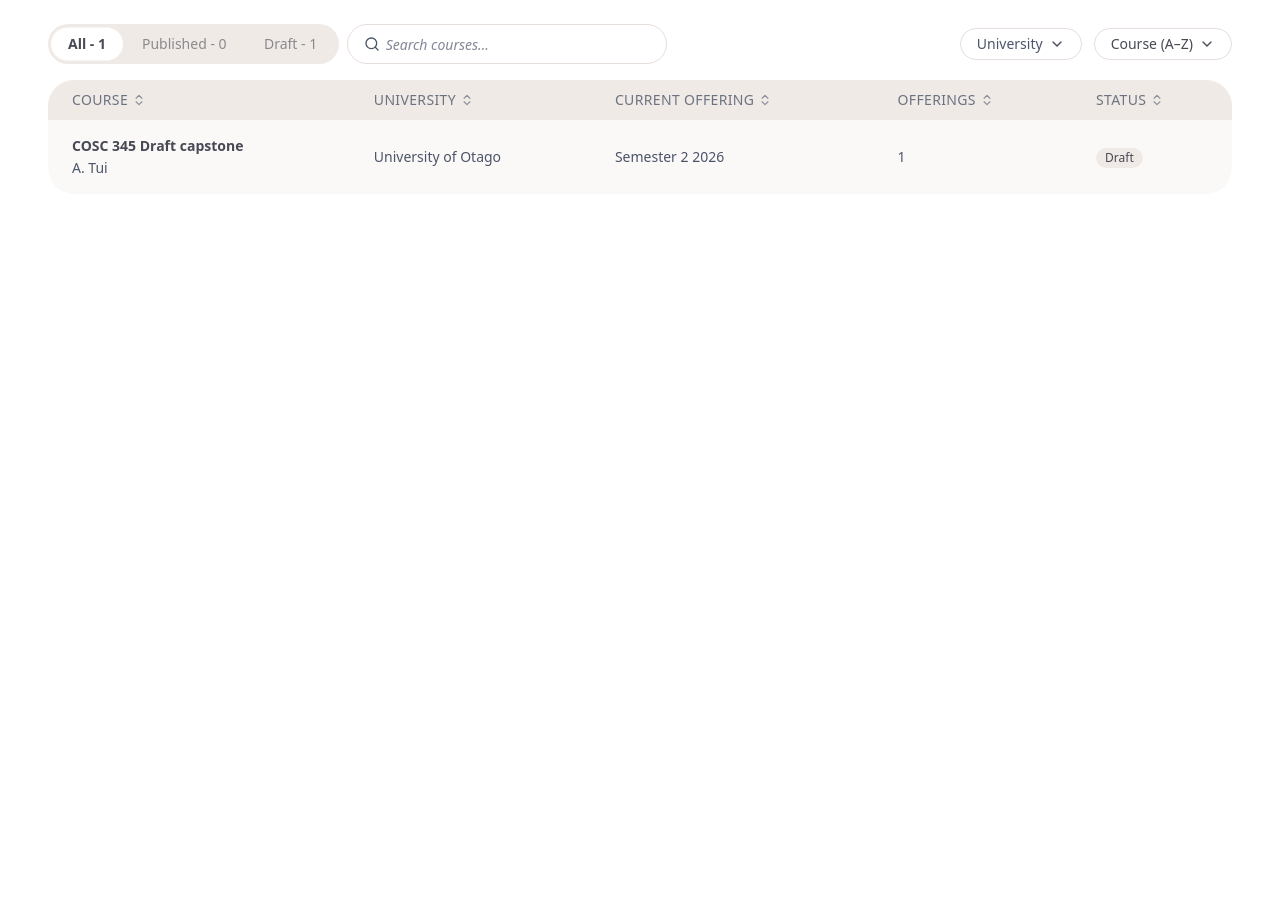
Test: CoursesListClient drafts › keeps the dialog open with the error when deleting fails
Step 1. Click the button named "COSC 345 Draft capstoneA. Tui" → (199, 157), box [72, 136, 326, 178]
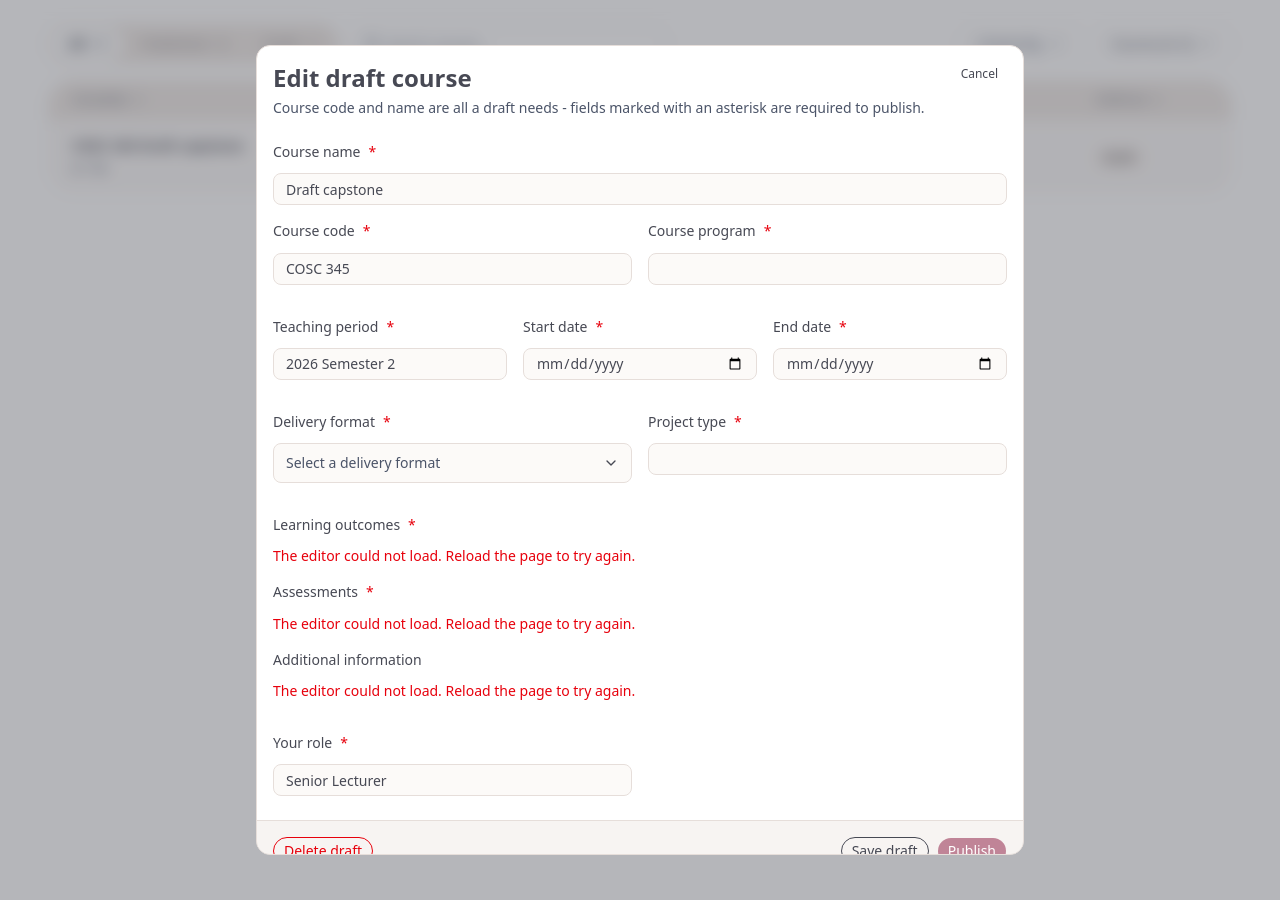
Step 2. Click the button "Delete draft" → (323, 851), box [273, 837, 373, 865]
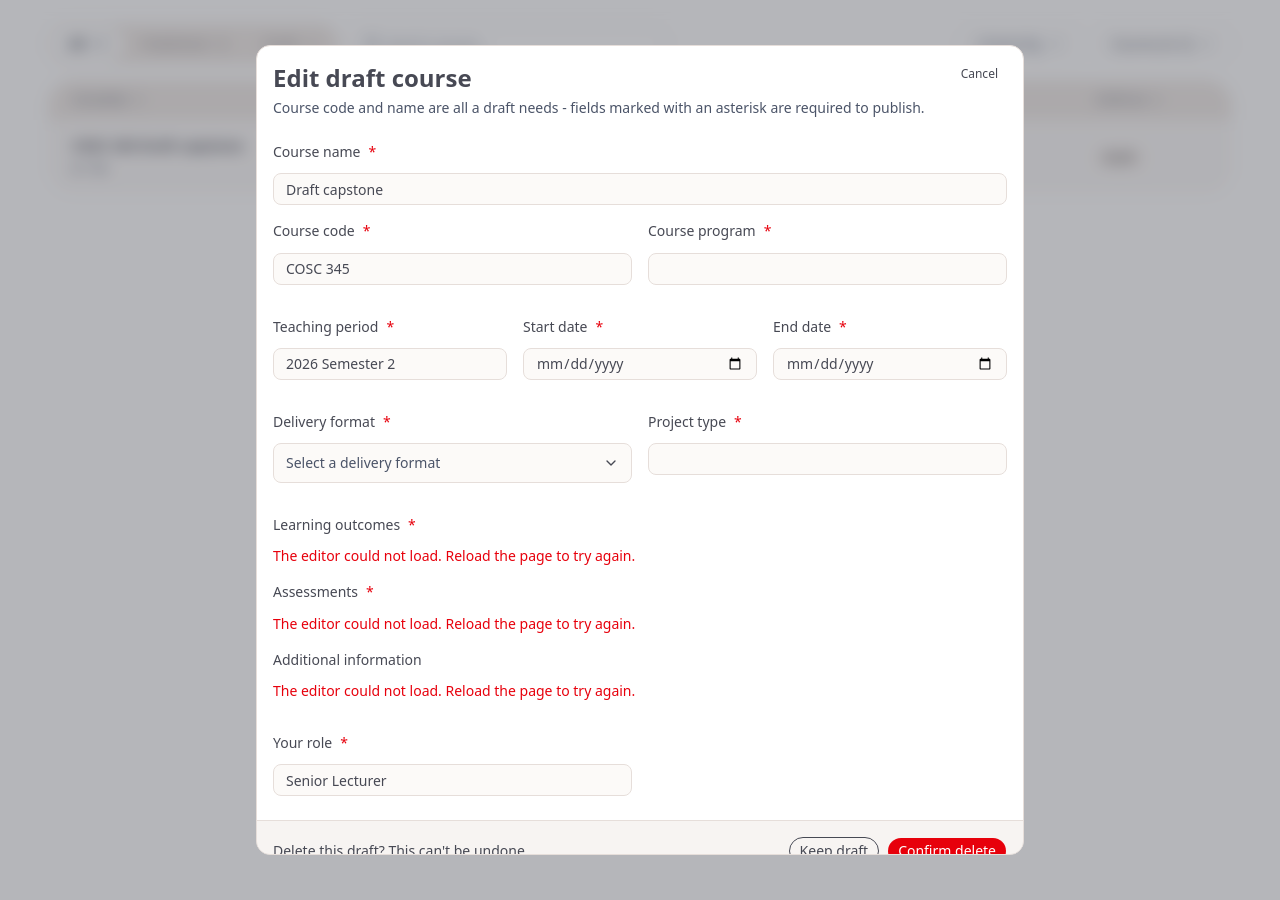
Step 3. Click the button "Confirm delete" → (947, 851), box [887, 837, 1007, 865]
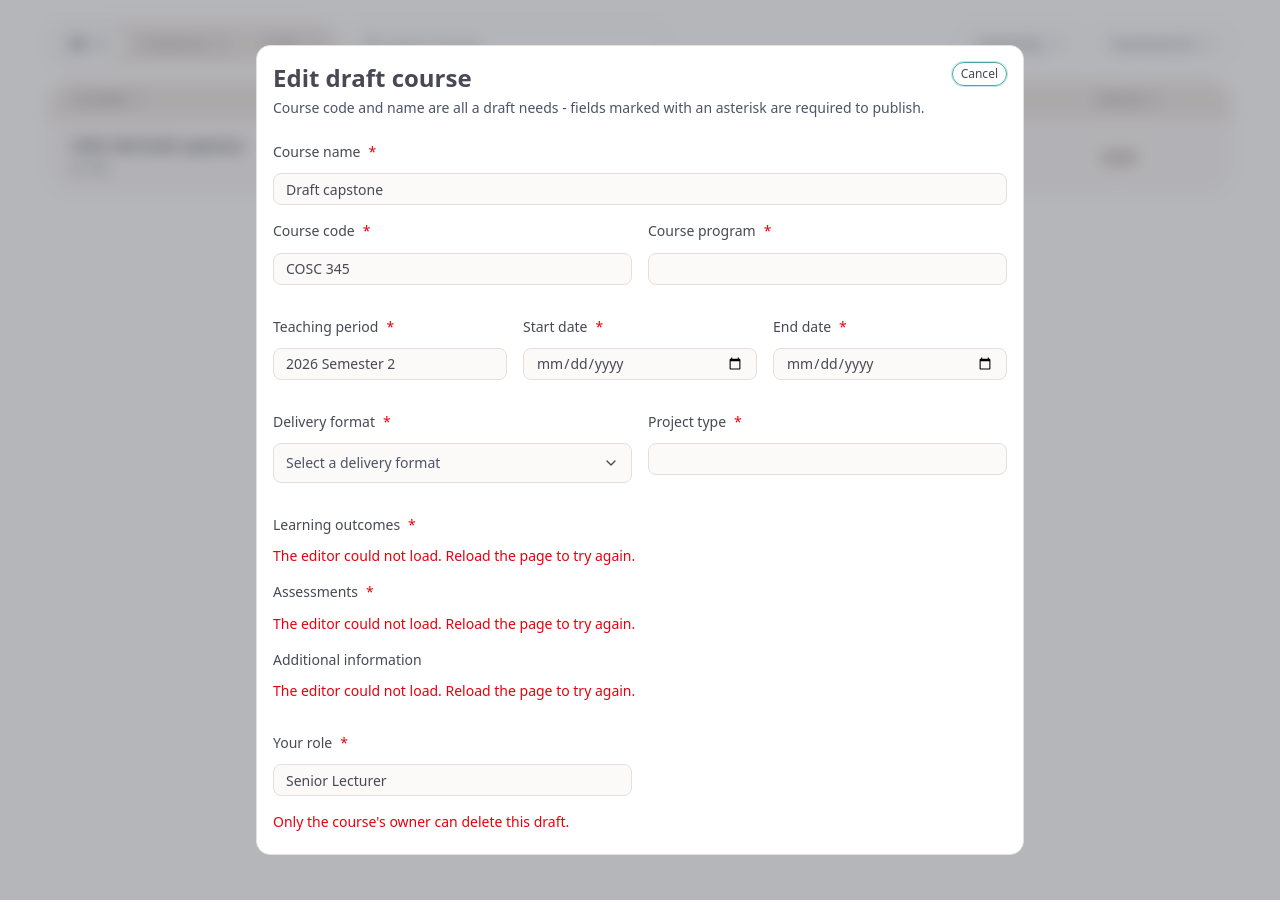
expect the dialog "Edit draft course" is shown: met, box [256, 45, 1024, 855]
expect the text "Only the course's owner can delete this draft." is shown: met, box [273, 812, 569, 831]
